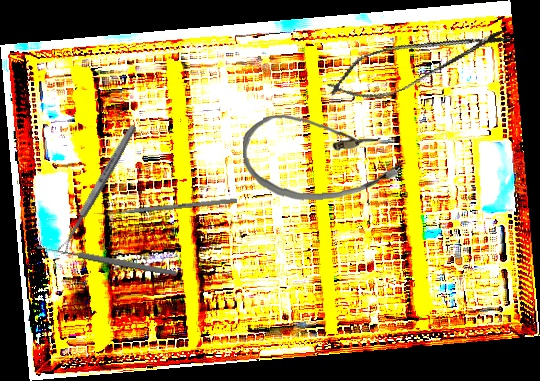Cannula: (241, 108, 402, 204)
Micro Scissor: (319, 10, 518, 113)
Pusher: (99, 197, 237, 218)
Surgical Spoon: (55, 123, 139, 256), (35, 242, 178, 278)
